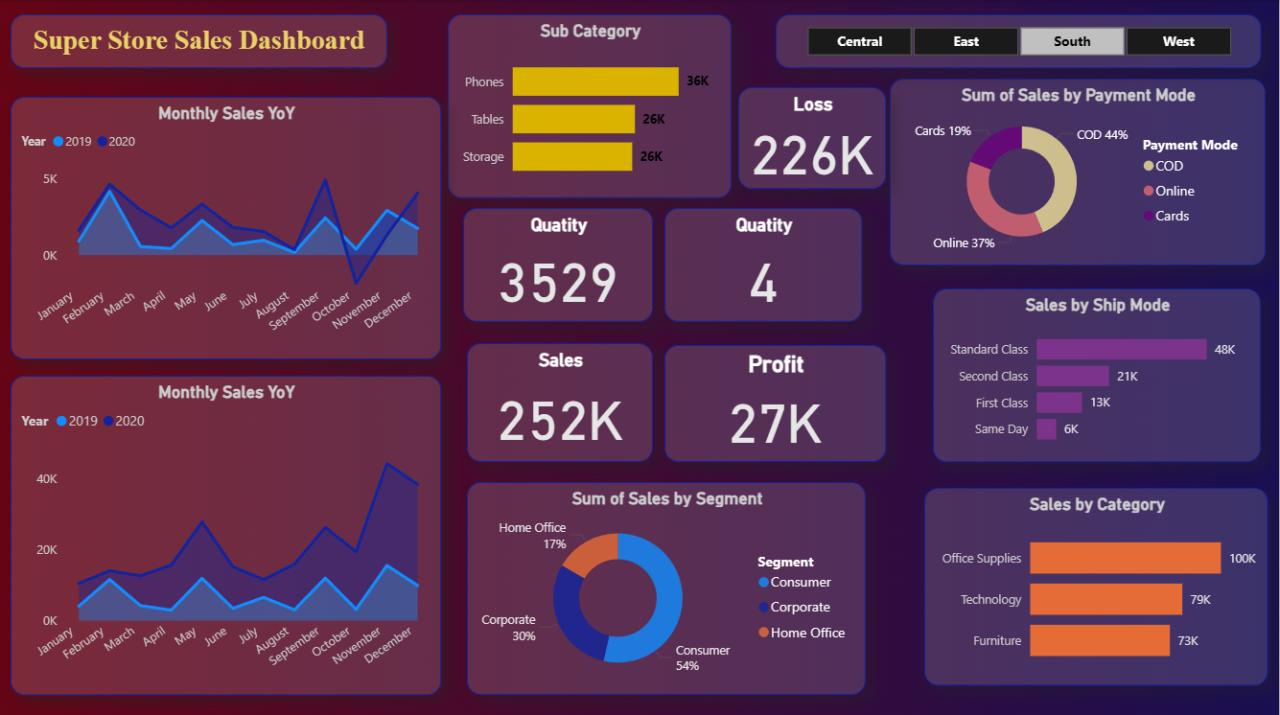

What the dashboard file says about the page in this screenshot:
{"tool":"powerbi","page":{"name":"Page 1","canvas":[1280,720],"ordinal":0},"visuals":[{"type":"clusteredBarChart","title":"Sales by Category","fields":{"Category":["SuperStore_Sales_Dataset.Category"],"Y":["Sum(SuperStore_Sales_Dataset.Sales)"]},"box":[925,488.4,344.5,197.7],"z":0},{"type":"clusteredBarChart","title":"Sub Category","fields":{"Category":["SuperStore_Sales_Dataset.Sub-Category"],"Y":["Sum(SuperStore_Sales_Dataset.Sales)"]},"box":[463.4,14.4,284,184.2],"z":1000},{"type":"clusteredBarChart","title":"Sales by Ship Mode","fields":{"Category":["SuperStore_Sales_Dataset.Ship Mode"],"Y":["Sum(SuperStore_Sales_Dataset.Sales)"]},"box":[933.6,288.8,328.2,173.7],"z":2000},{"type":"stackedAreaChart","title":"Monthly Sales YoY","fields":{"Y":["Sum(SuperStore_Sales_Dataset.Sales)"],"Series":["SuperStore_Sales_Dataset.Order Date.Variation.Date Hierarchy.Year"],"Category":["SuperStore_Sales_Dataset.Order Date.Variation.Date Hierarchy.Month","SuperStore_Sales_Dataset.Order Date.Variation.Date Hierarchy.Day"]},"box":[10.6,376.1,430.8,319.5],"z":3000},{"type":"stackedAreaChart","title":"Monthly Sales YoY","fields":{"Series":["SuperStore_Sales_Dataset.Order Date.Variation.Date Hierarchy.Year"],"Category":["SuperStore_Sales_Dataset.Order Date.Variation.Date Hierarchy.Month","SuperStore_Sales_Dataset.Order Date.Variation.Date Hierarchy.Day"],"Y":["Sum(SuperStore_Sales_Dataset.Profit)"]},"box":[0,89.2,441.4,270.6],"z":4000},{"type":"donutChart","fields":{"Category":["SuperStore_Sales_Dataset.Segment"],"Y":["Sum(SuperStore_Sales_Dataset.Sales)"]},"box":[467.3,482.6,399.2,213],"z":5000},{"type":"donutChart","fields":{"Category":["SuperStore_Sales_Dataset.Payment Mode"],"Y":["Sum(SuperStore_Sales_Dataset.Sales)"]},"box":[878,78.7,376.1,187.1],"z":6000},{"type":"slicer","fields":{"Values":["SuperStore_Sales_Dataset.Region"]},"box":[776.3,14.4,485.5,53.7],"z":7000},{"type":"textbox","box":[10.6,14.4,377.1,53.7],"z":8000},{"type":"card","title":"Sales","fields":{"Values":["Sum(SuperStore_Sales_Dataset.Sales)"]},"box":[467.3,343.5,186.1,119],"z":9000},{"type":"card","title":"Profit","fields":{"Values":["Sum(SuperStore_Sales_Dataset.Profit)"]},"box":[664.9,345.4,221.6,117.1],"z":10000},{"type":"card","title":"Quatity","fields":{"Values":["Sum(SuperStore_Sales_Dataset.Quantity)"]},"box":[463.4,208.2,190,114.2],"z":11000},{"type":"card","title":"Quatity","fields":{"Values":["Avg(SuperStore_Sales_Dataset.AvgDelivery)"]},"box":[664.9,208.2,197.7,114.2],"z":12000}]}

Visuals, with their boxes in screenshot pixels (x1, y1, x2, y2), scaled from the page's 1280x720 canvas onto the 1280x715 screenshot:
"Sales by Category" clusteredBarChart: (925, 485, 1270, 681)
"Sub Category" clusteredBarChart: (463, 14, 747, 197)
"Sales by Ship Mode" clusteredBarChart: (934, 287, 1262, 459)
"Monthly Sales YoY" stackedAreaChart: (11, 373, 441, 691)
"Monthly Sales YoY" stackedAreaChart: (0, 89, 441, 357)
donutChart - SuperStore_Sales_Dataset.Segment x Sum(SuperStore_Sales_Dataset.Sales): (467, 479, 866, 691)
donutChart - SuperStore_Sales_Dataset.Payment Mode x Sum(SuperStore_Sales_Dataset.Sales): (878, 78, 1254, 264)
slicer - SuperStore_Sales_Dataset.Region: (776, 14, 1262, 68)
textbox: (11, 14, 388, 68)
"Sales" card: (467, 341, 653, 459)
"Profit" card: (665, 343, 886, 459)
"Quatity" card: (463, 207, 653, 320)
"Quatity" card: (665, 207, 863, 320)
